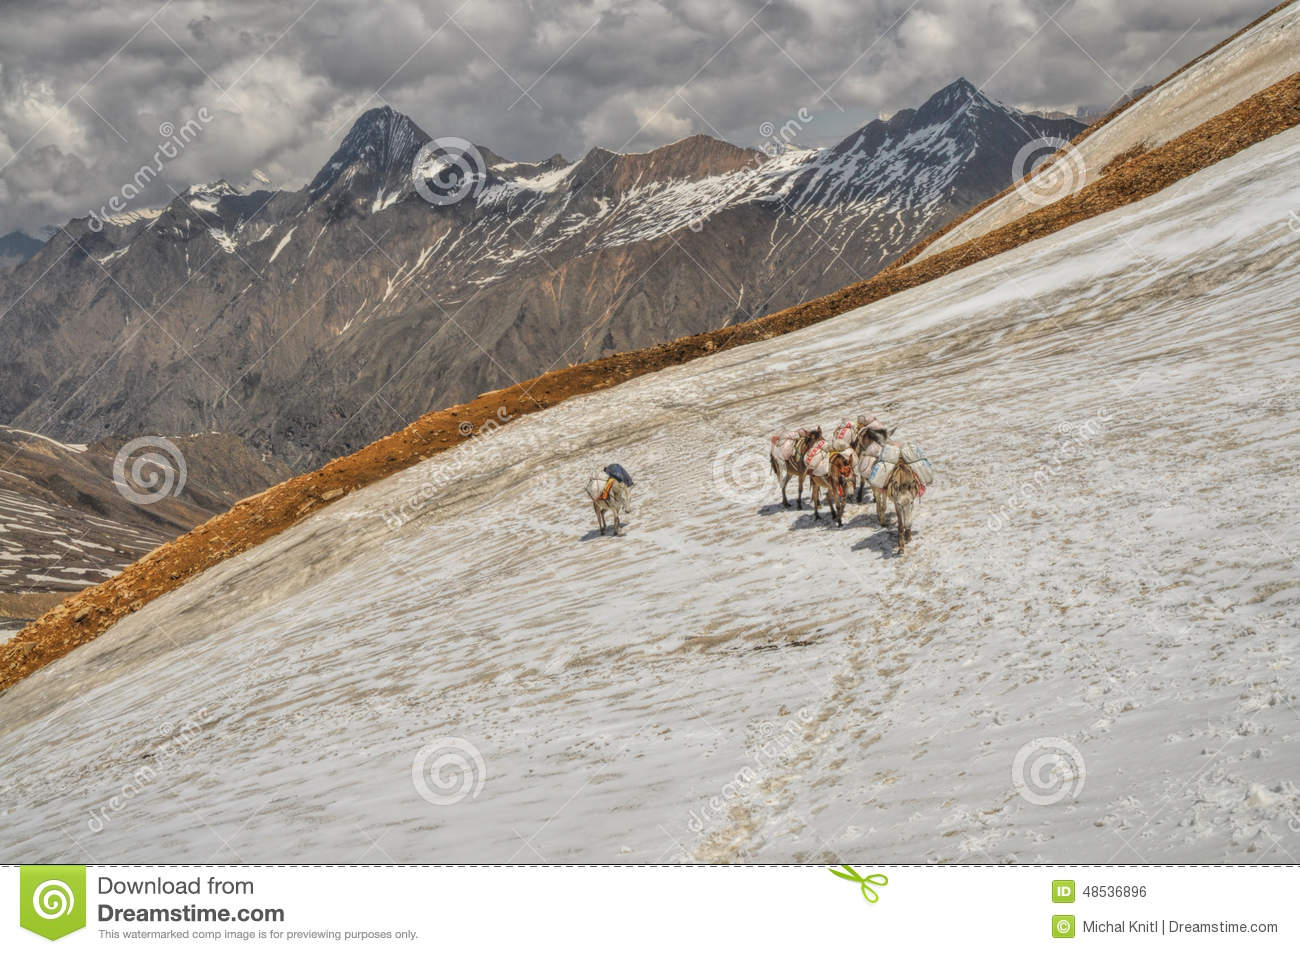equine: (844, 439, 949, 548), (814, 409, 901, 508), (785, 431, 867, 537), (562, 457, 656, 542), (751, 424, 837, 508)
